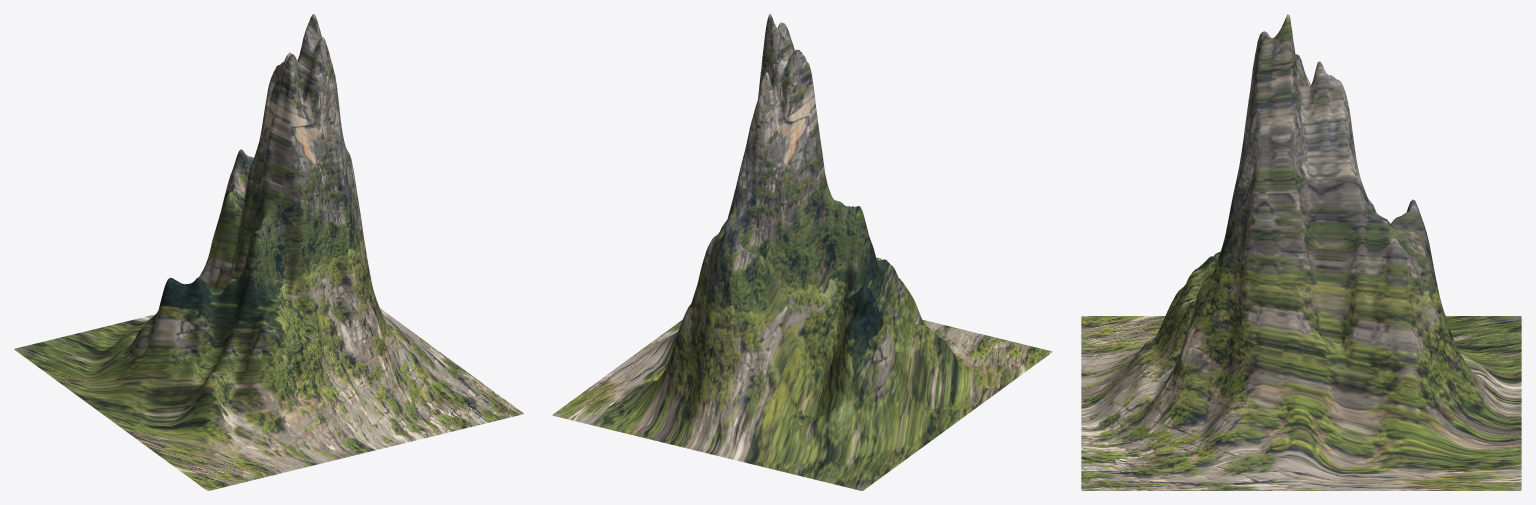
File: Mountain.dae
The picture shows the model from 3 angles, left to right: view 1: azimuth 30°, elevation 25°; view 2: azimuth 150°, elevation 25°; view 3: azimuth 270°, elevation 25°; orthographic projection. The views are drawn at different scales.
Visible parts, largest first — view 1: Landscape; view 2: Landscape; view 3: Landscape.
Boxes of the visible parts, bbox=[...] form: Landscape: bbox=[14, 14, 523, 490]; Landscape: bbox=[552, 14, 1052, 490]; Landscape: bbox=[1081, 14, 1521, 490].
Size of the model in its own units: 320 by 340 by 350.
Materials: 1 (1 with a texture image).
